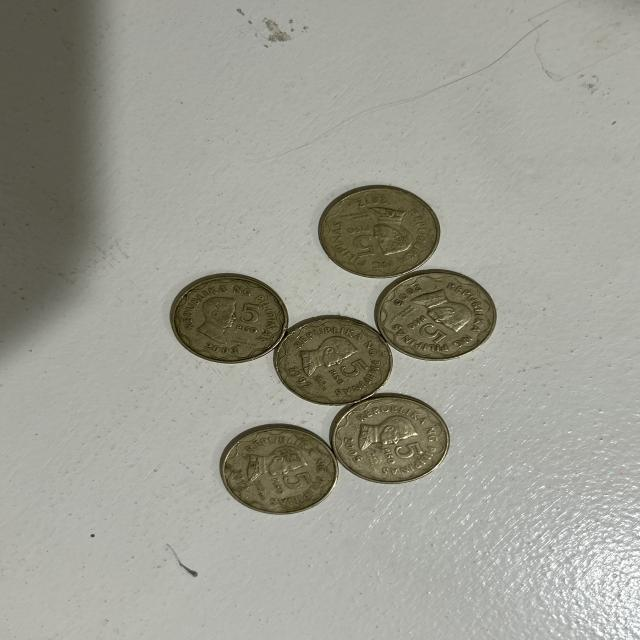5_Old_Front: (403, 315, 458, 351), (327, 354, 372, 388), (229, 301, 267, 340), (341, 223, 384, 257), (377, 444, 425, 472), (268, 472, 319, 493)
